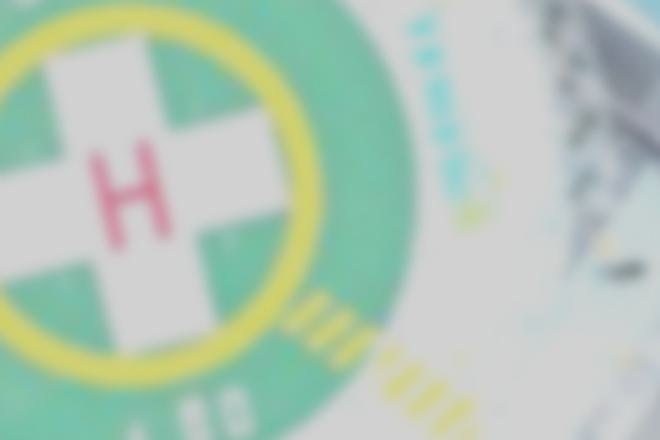Apron: (1, 3, 328, 393)
